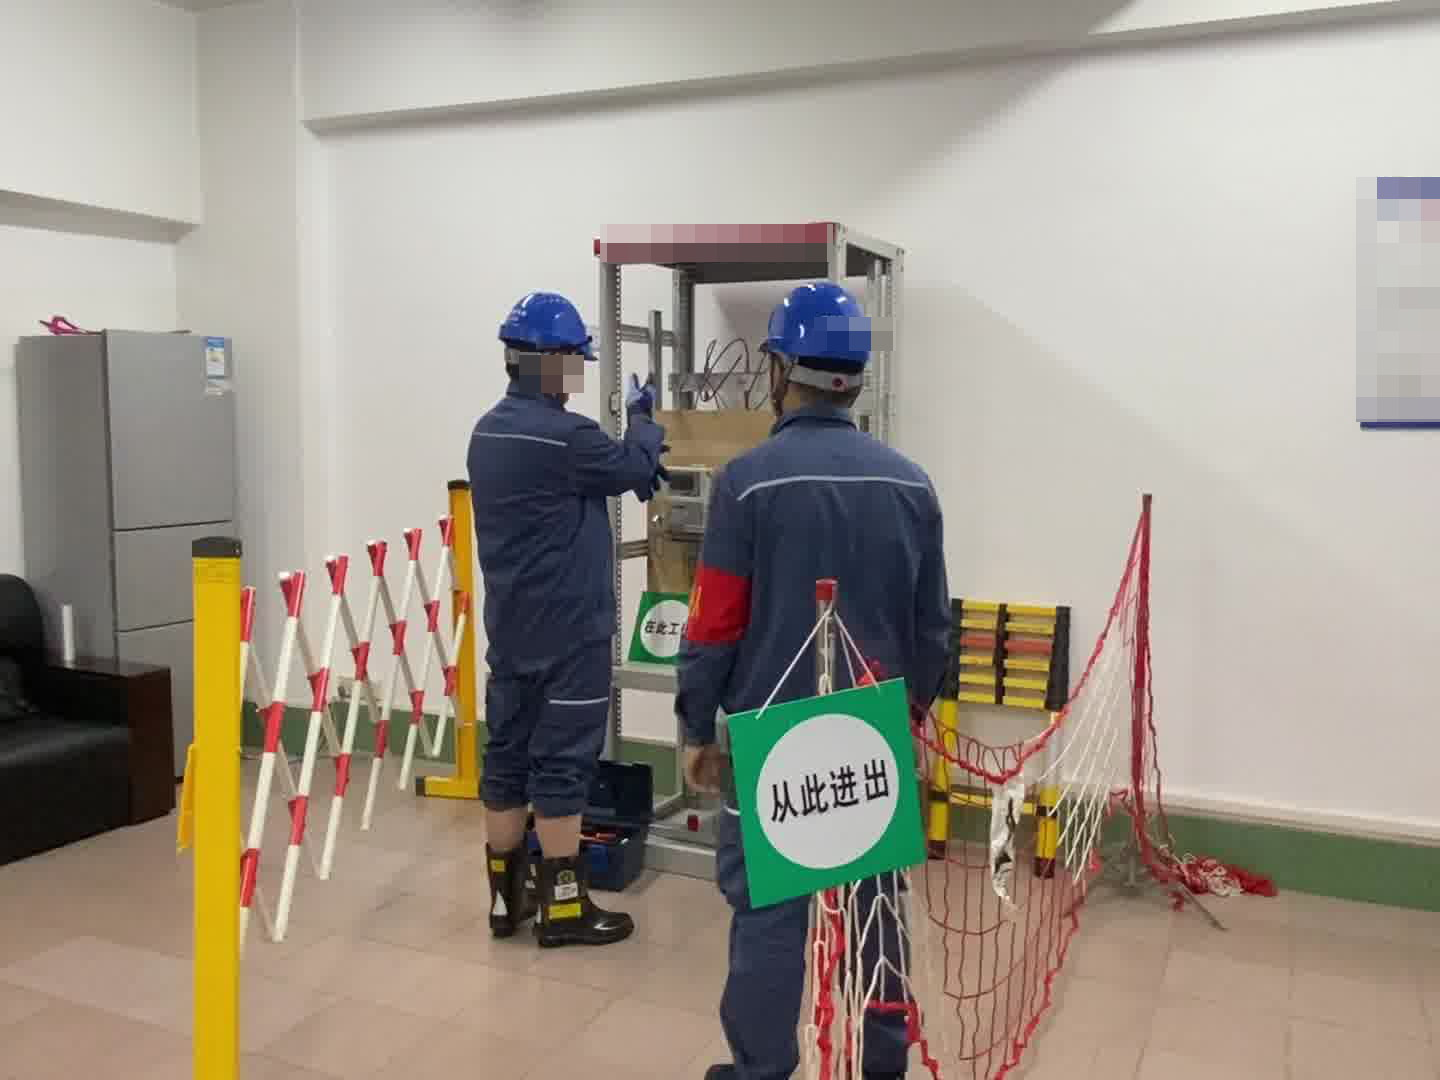badge: (684, 565, 753, 649)
downsuit: (715, 744, 915, 1080), (480, 662, 623, 821)
glove: (621, 366, 655, 417)
halt: (761, 280, 876, 411), (496, 290, 597, 400)
hand: (676, 736, 715, 798)
inear: (763, 349, 794, 411), (544, 348, 577, 400)
intosign: (724, 672, 939, 918)
person: (676, 276, 963, 1080), (457, 290, 660, 952)
shoe: (484, 838, 635, 948)
upsuit: (676, 409, 962, 752), (463, 384, 658, 651)
worksign: (628, 588, 699, 665)
wrongbottom: (531, 764, 584, 858), (482, 778, 530, 859)
